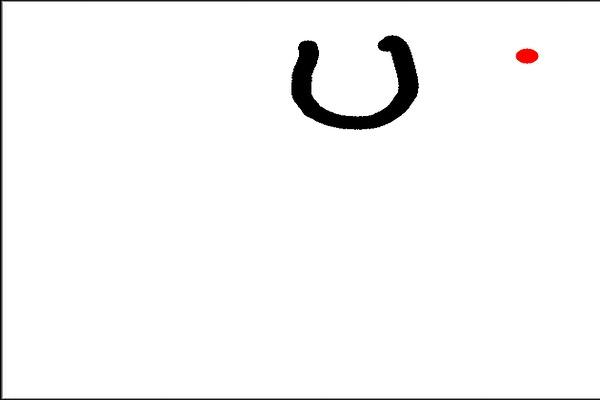U: (287, 25, 427, 131)
